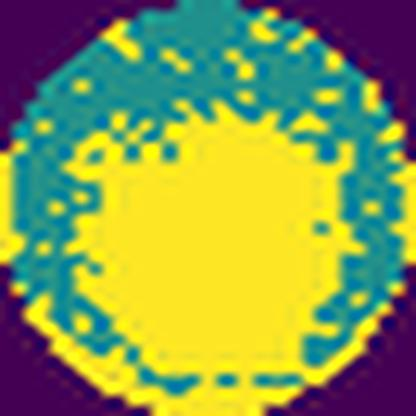Loc: (61, 97, 357, 383)
